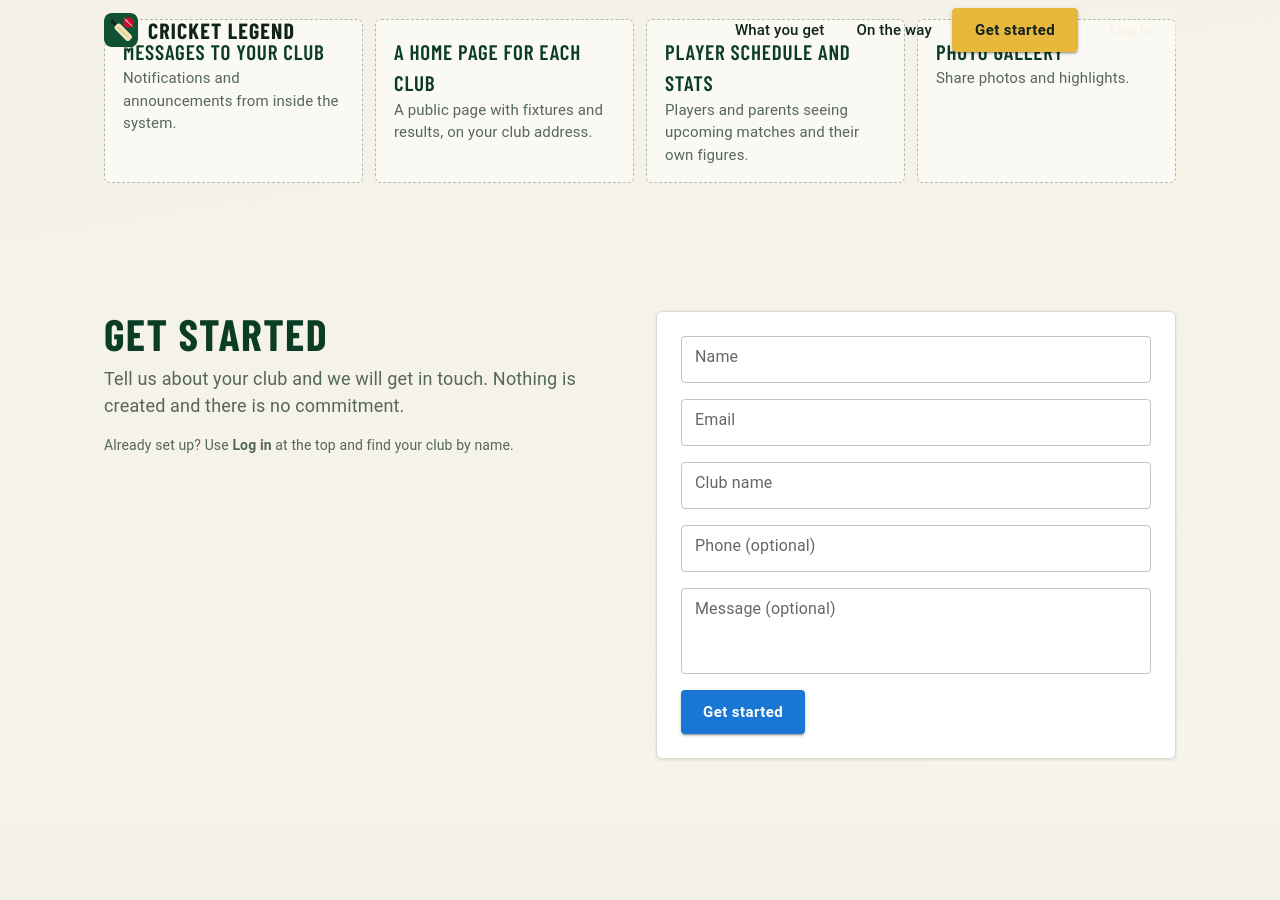
it: LandingPage lead-capture form › shows inline validation errors and does not submit when required fields are missing
This screenshot has width=1280, height=900.
(page scrolled)
Click the button "Get started".
click(743, 712)  # box [681,690,805,734]
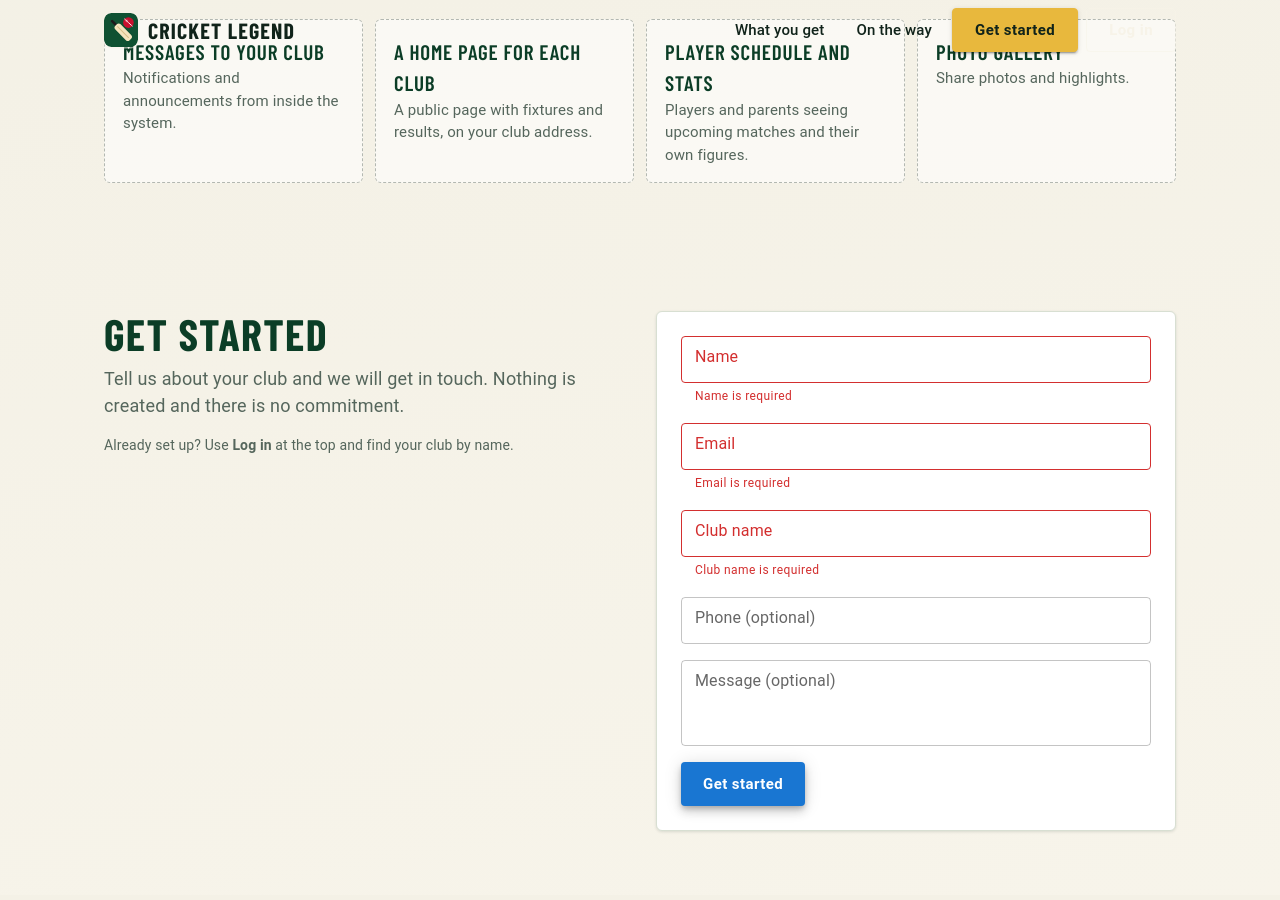
Check: the text "Name is required" is shown, box [695,389,792,403]
Check: the text "Email is required" is shown, box [695,476,790,490]
Check: the text "Club name is required" is shown, box [695,563,819,577]
